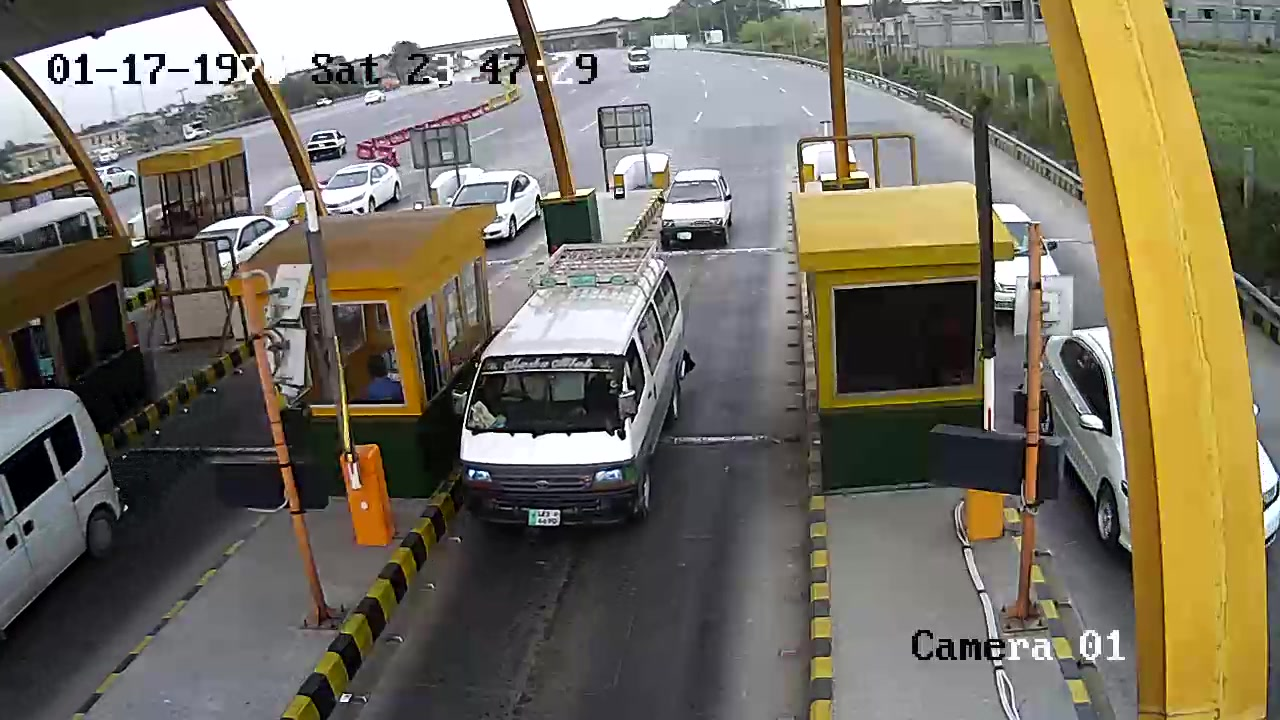F2: (451, 239, 698, 546)
